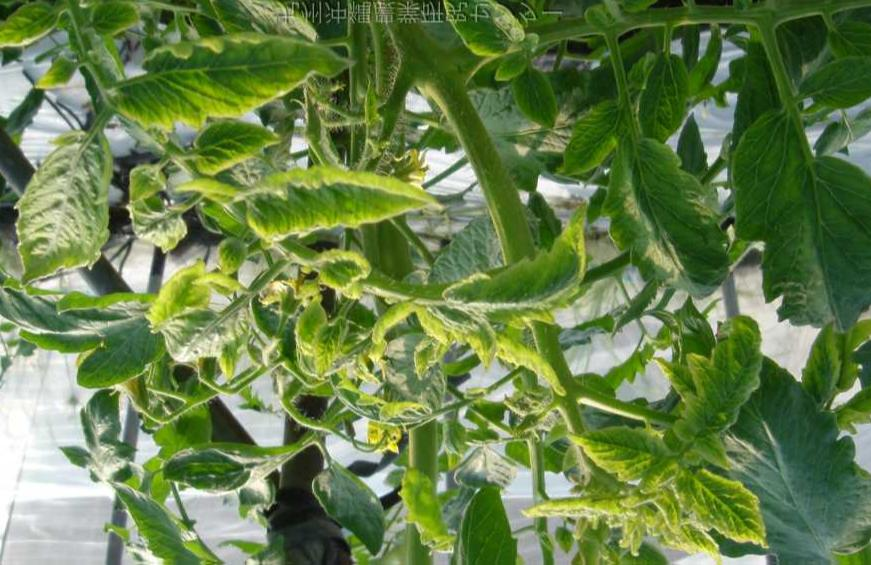Tomato leaf yellow virus: (111, 33, 358, 131), (7, 118, 137, 301), (454, 213, 599, 336), (227, 168, 454, 245), (673, 319, 769, 453), (680, 462, 774, 557), (417, 0, 541, 66), (145, 256, 222, 354), (577, 414, 673, 489)
